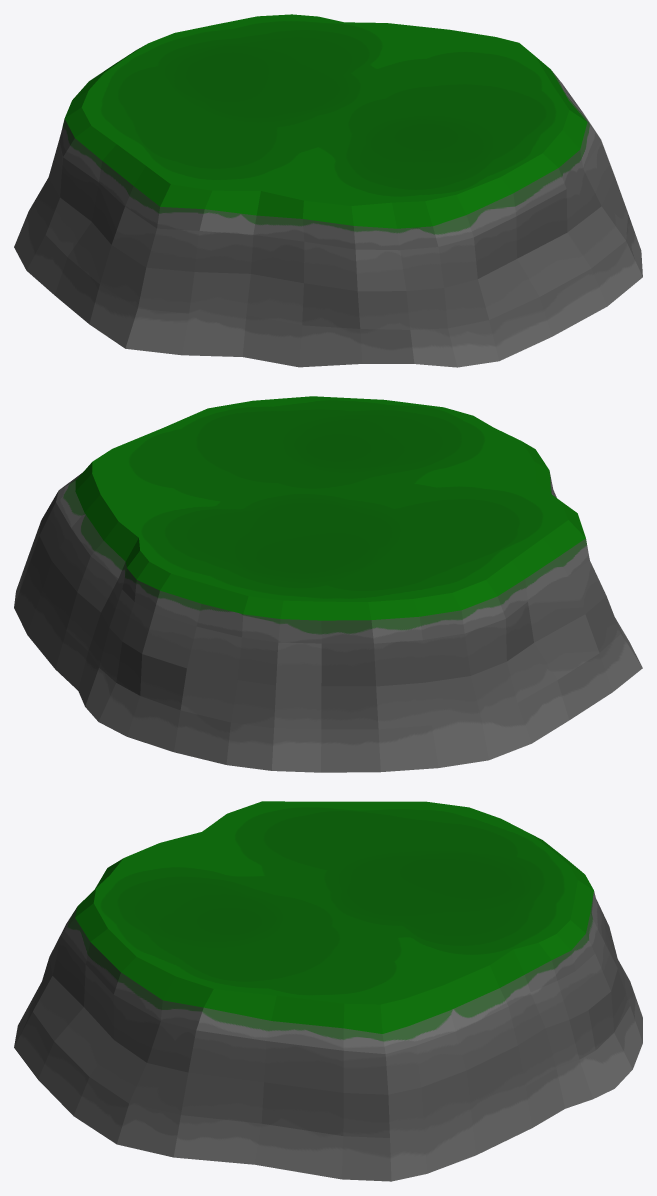
The model's file is Island.fbx.
3 renders of one model, top to bottom at view 1: azimuth 30°, elevation 25°; view 2: azimuth 150°, elevation 25°; view 3: azimuth 270°, elevation 25°, orthographic. The views are drawn at different scales.
Visible parts, largest first — view 1: Circle; view 2: Circle; view 3: Circle.
Part boxes in pixels (x1,y1,x2,y2): Circle: (14,14,642,367); Circle: (14,396,642,772); Circle: (14,801,642,1181).
Bounding box in the file's own units: 39.43 × 9.86 × 38.98.
